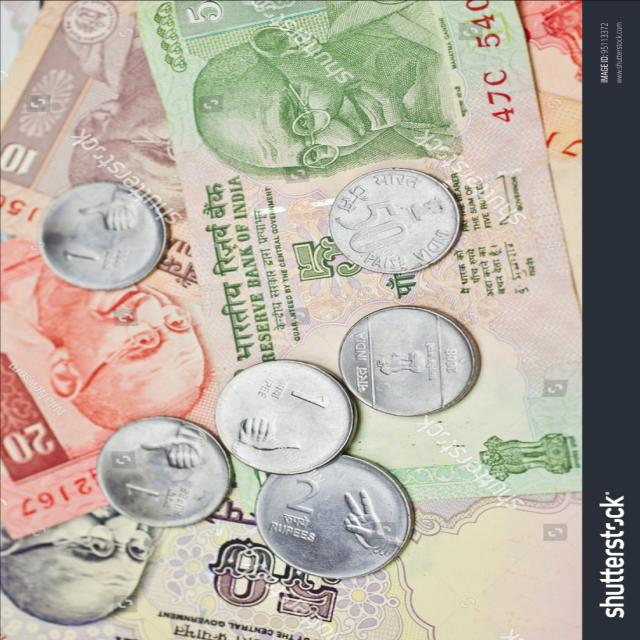5IndianRupees: (187, 0, 579, 500)
